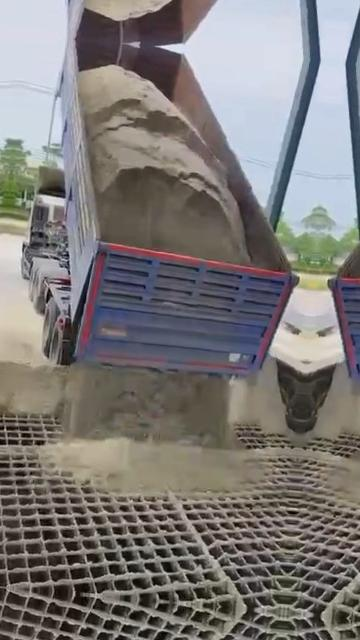sand: (40, 364, 298, 609), (79, 65, 250, 263), (229, 357, 288, 433), (0, 359, 68, 413)
